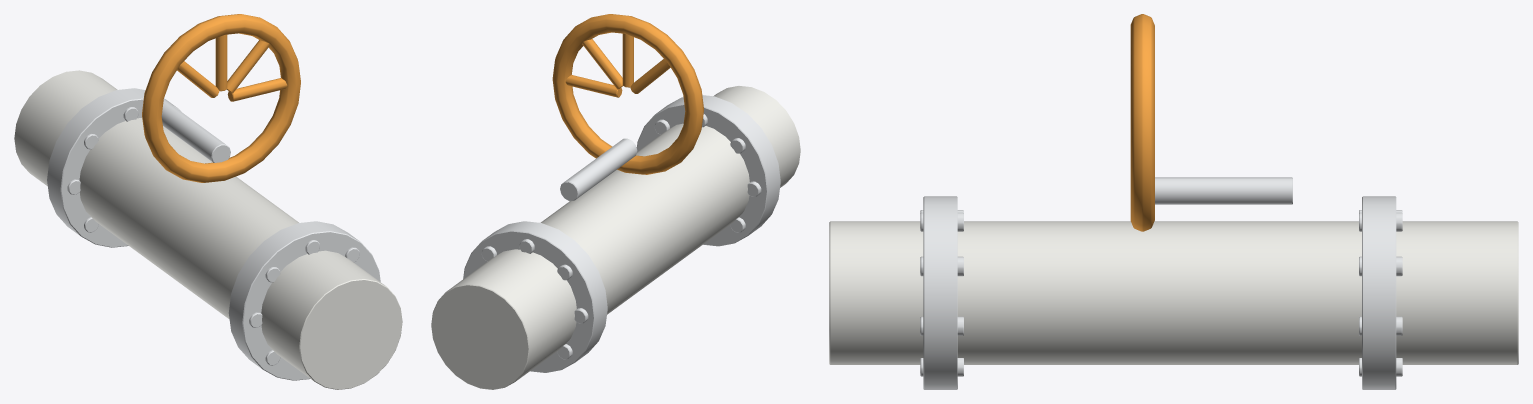
File: LV_pipe_valve.fbx
The picture shows the model from 3 angles, left to right: view 1: azimuth 30°, elevation 25°; view 2: azimuth 150°, elevation 25°; view 3: azimuth 270°, elevation 25°; orthographic projection. The views are drawn at different scales.
Visible parts, largest first — view 1: LV_pipe_valve; view 2: LV_pipe_valve; view 3: LV_pipe_valve.
Boxes of the visible parts, box(x1,y1,x2,y2) form: LV_pipe_valve: box(14, 14, 402, 389); LV_pipe_valve: box(431, 14, 800, 389); LV_pipe_valve: box(829, 14, 1518, 389).
Bounding box in the file's own units: 0.3489 × 0.6294 × 1.1.
